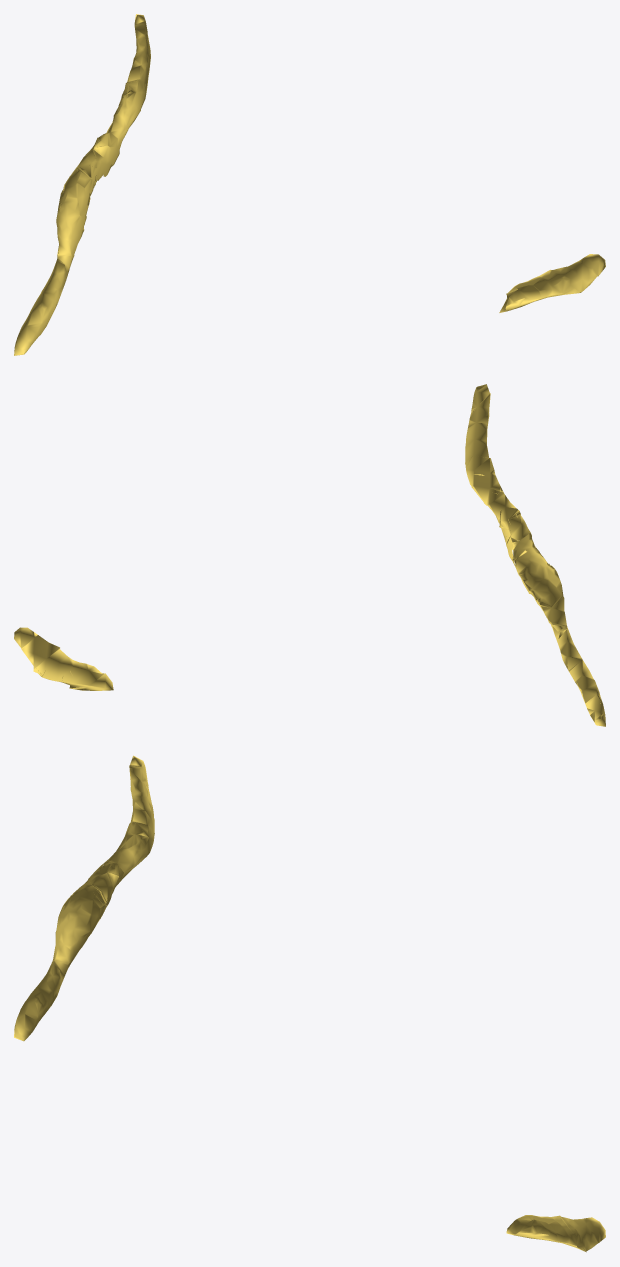
3 renders of one model, top to bottom at view 1: azimuth 30°, elevation 25°; view 2: azimuth 150°, elevation 25°; view 3: azimuth 330°, elevation 25°, orthographic.
Visible parts, largest first — view 1: Switch_Switch_osgPicked_gmeGeoEntityGeode_Geometry_0, Switch_Switch_osgPicked_gmeGeoEntityGeode_Geometry_Geometry_; view 2: Switch_Switch_osgPicked_gmeGeoEntityGeode_Geometry_0, Switch_Switch_osgPicked_gmeGeoEntityGeode_Geometry_Geometry_; view 3: Switch_Switch_osgPicked_gmeGeoEntityGeode_Geometry_0, Switch_Switch_osgPicked_gmeGeoEntityGeode_Geometry_Geometry_.
Part boxes in pixels (x1=…): Switch_Switch_osgPicked_gmeGeoEntityGeode_Geometry_0: x1=14, y1=14, x2=150, y2=355; Switch_Switch_osgPicked_gmeGeoEntityGeode_Geometry_Geometry_: x1=499, y1=254, x2=605, y2=312; Switch_Switch_osgPicked_gmeGeoEntityGeode_Geometry_0: x1=465, y1=384, x2=605, y2=726; Switch_Switch_osgPicked_gmeGeoEntityGeode_Geometry_Geometry_: x1=14, y1=627, x2=113, y2=690; Switch_Switch_osgPicked_gmeGeoEntityGeode_Geometry_0: x1=14, y1=755, x2=154, y2=1041; Switch_Switch_osgPicked_gmeGeoEntityGeode_Geometry_Geometry_: x1=506, y1=1215, x2=605, y2=1252.
Bounding box in the file's own units: 20139 × 12760 × 1096.
